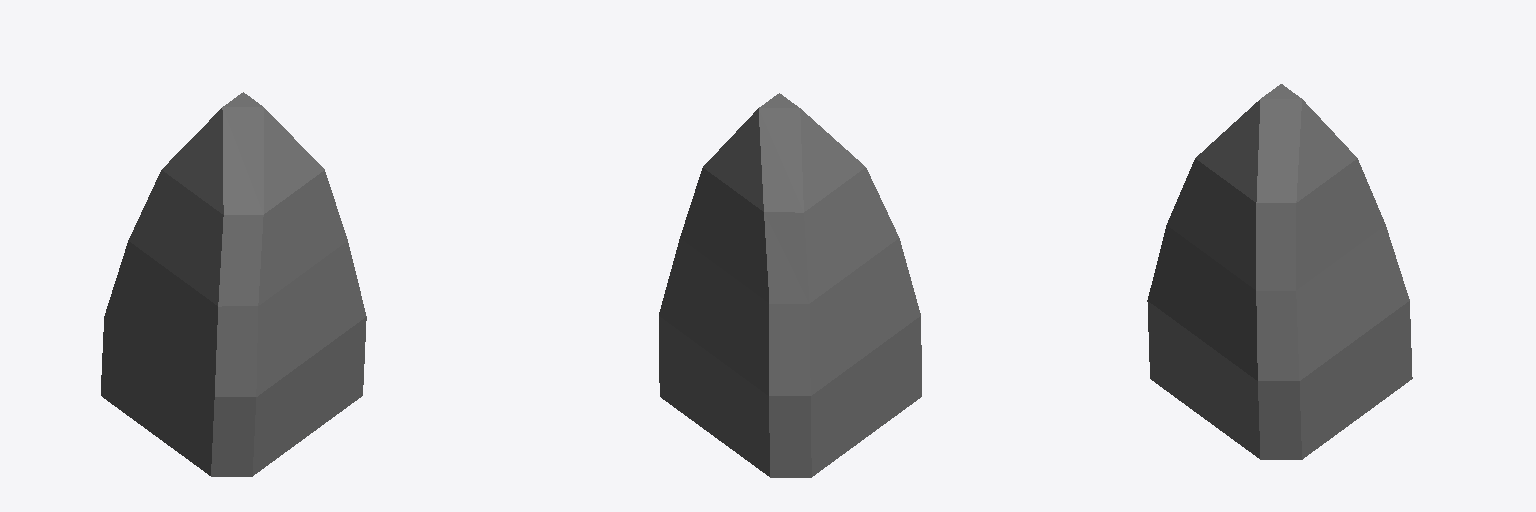
The model's file is MagicRock.obj.
The picture shows the model from 3 angles: view 1: azimuth 30°, elevation 25°; view 2: azimuth 150°, elevation 25°; view 3: azimuth 270°, elevation 25°; orthographic projection.
Visible parts, largest first — view 1: g pCylinder1_pCylinder1_1001; view 2: g pCylinder1_pCylinder1_1001; view 3: g pCylinder1_pCylinder1_1001.
Part boxes in pixels (left/top/right/bottom): g pCylinder1_pCylinder1_1001: left=101, top=92, right=366, bottom=476; g pCylinder1_pCylinder1_1001: left=659, top=93, right=921, bottom=477; g pCylinder1_pCylinder1_1001: left=1147, top=84, right=1412, bottom=459.
Bounding box in the file's own units: 131 × 196 × 151.